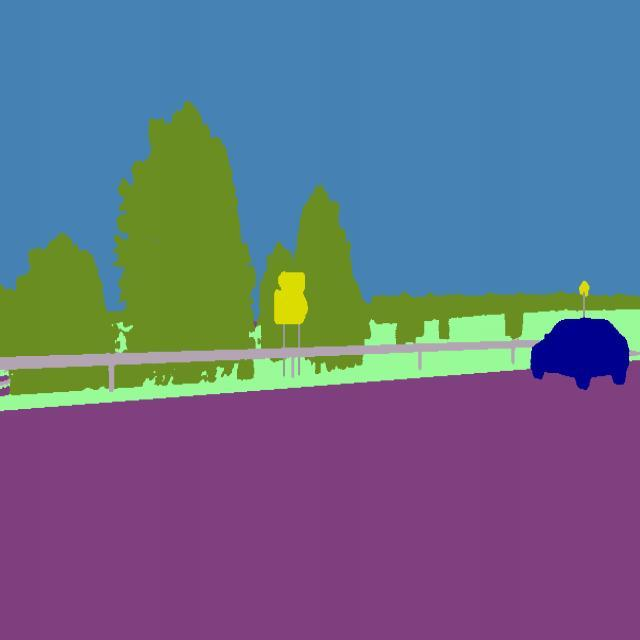safe: (524, 312, 636, 404)
